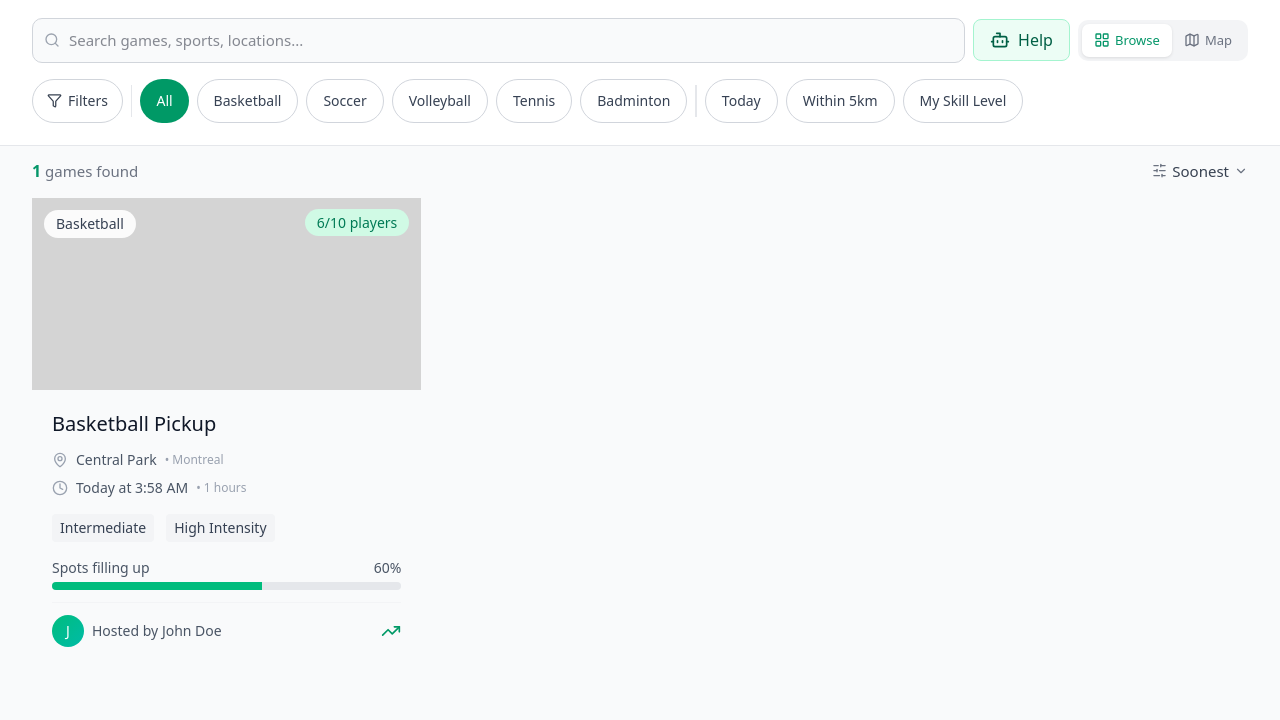
Test: GameDiscovery Component › Filter Application › should close modal when backdrop is clicked
The image size is (1280, 720).
Click the button "Filters": (77, 100) [32,78,123,122]
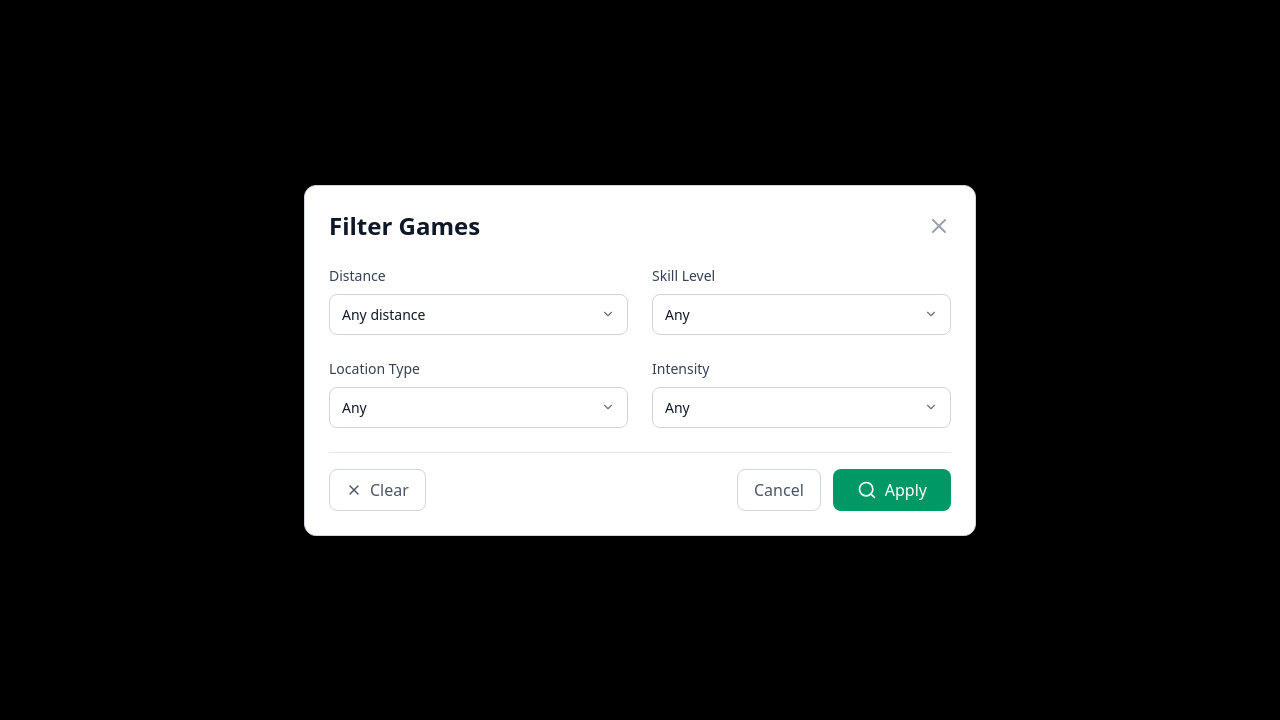
Expected: the text "Distance" is shown, [329,266,386,284]
Click the text "Distance": (77, 360) [0,0,1279,719]
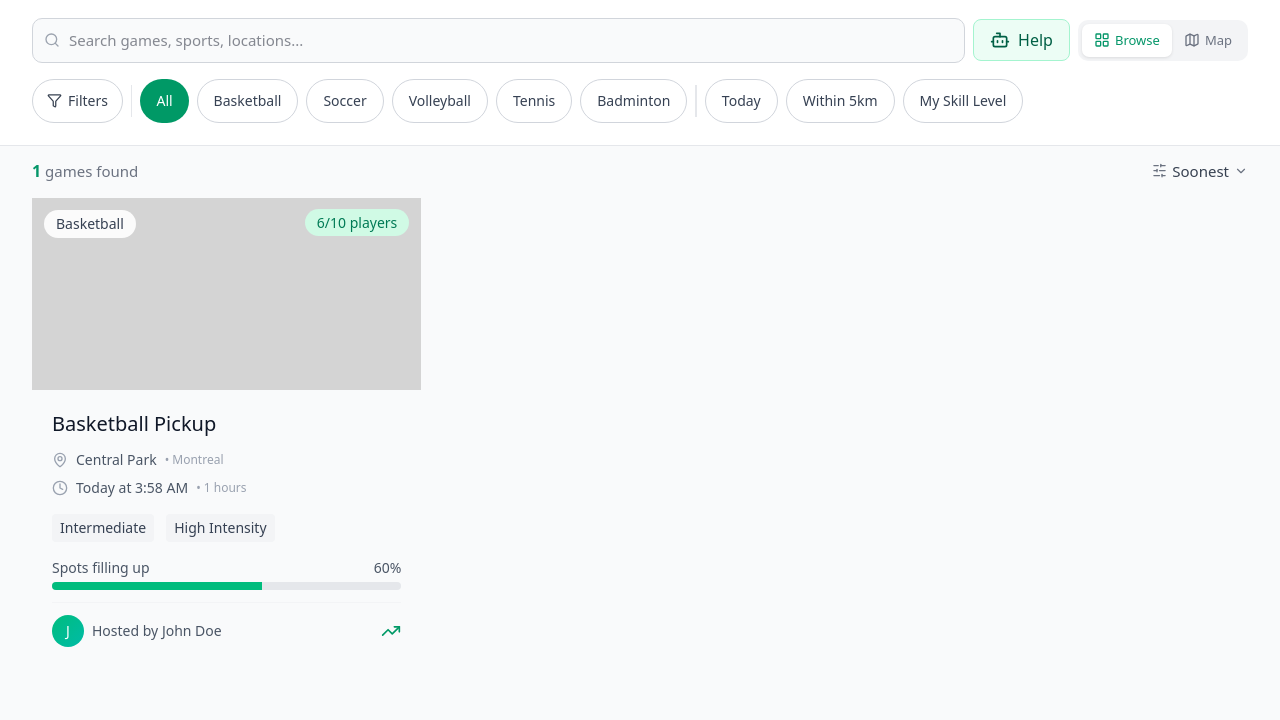
Expected: the text "Distance" is gone
